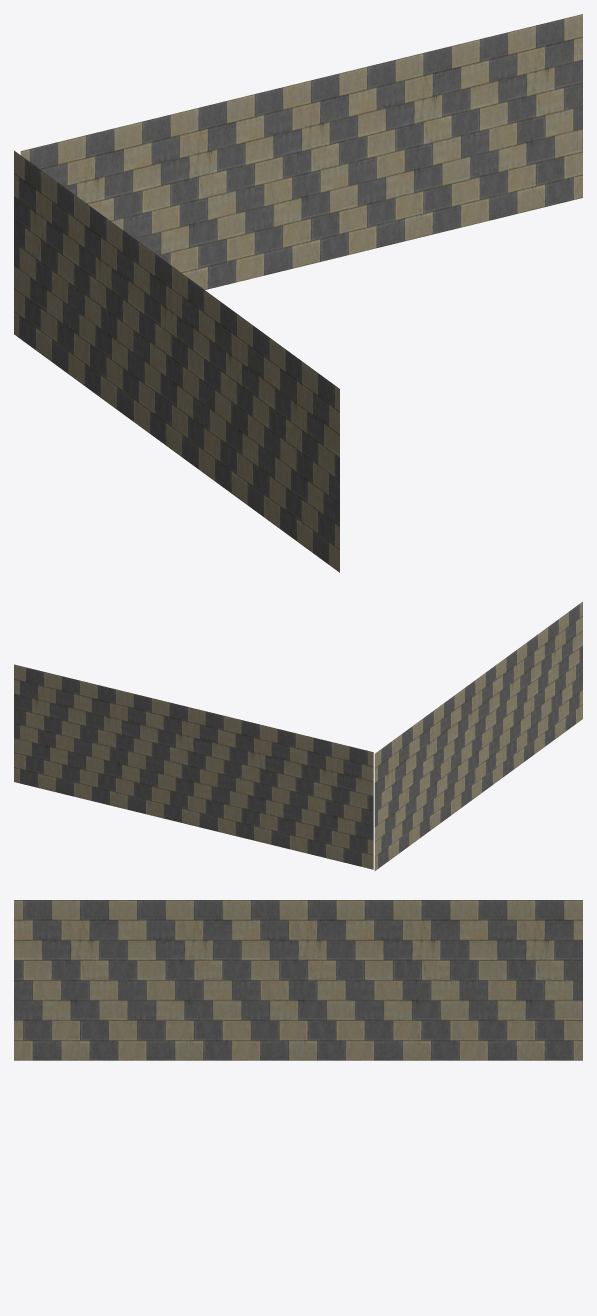
The model's file is wall.fbx.
3 views of the same model, one above another, from view 1: azimuth 30°, elevation 25°; view 2: azimuth 150°, elevation 25°; view 3: azimuth 270°, elevation 25° (orthographic). The views are drawn at different scales.
Parts seen in each view (by area): view 1: Plane.001, Plane.002; view 2: Plane.001, Plane.002; view 3: Plane.002.
Part boxes in pixels (<box>): Plane.001: <box>20,14,582,289</box>; Plane.002: <box>14,150,339,572</box>; Plane.001: <box>14,664,373,869</box>; Plane.002: <box>374,601,582,870</box>; Plane.002: <box>14,900,582,1060</box>.
Size of the model in its own units: 3007 by 933 by 2997.
